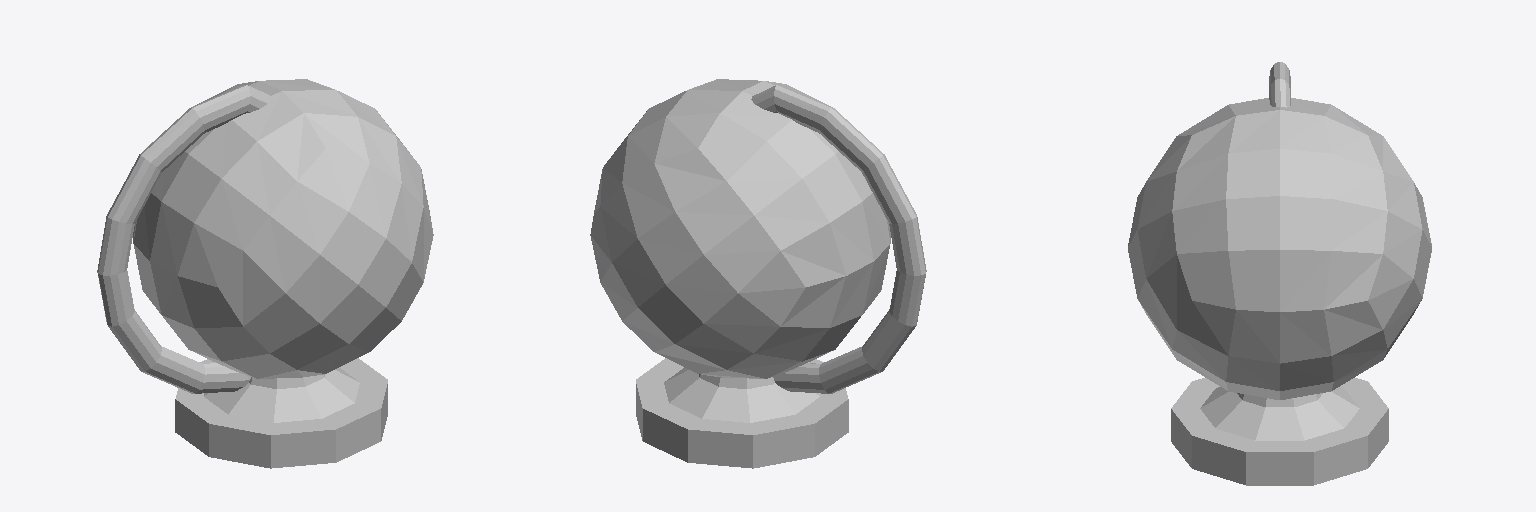
File: Globe.obj
3 renders of one model, left to right at view 1: azimuth 30°, elevation 25°; view 2: azimuth 150°, elevation 25°; view 3: azimuth 270°, elevation 25°, orthographic.
Visible parts, largest first — view 1: Globe; view 2: Globe; view 3: Globe.
Part boxes in pixels (x1,y1,x2,y2): Globe: (97, 79, 433, 468); Globe: (590, 79, 926, 468); Globe: (1128, 62, 1431, 485).
Size of the model in its own units: 3.35 by 3.51 by 2.8.